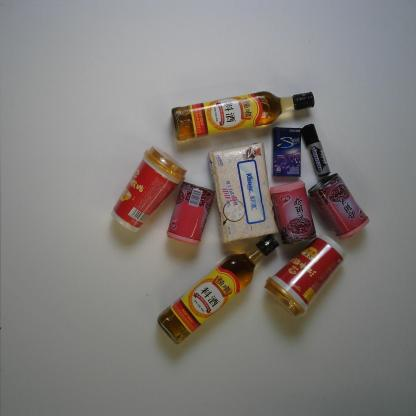Canned Food: (307, 170, 371, 242), (270, 178, 318, 247), (166, 179, 214, 247)
Gum: (271, 125, 303, 174)
Instant Drink: (263, 233, 348, 319), (110, 146, 187, 232)
Seasoner: (157, 236, 275, 349), (169, 90, 319, 142)
Stationery: (298, 121, 330, 175)
Tissue: (206, 141, 280, 245)
